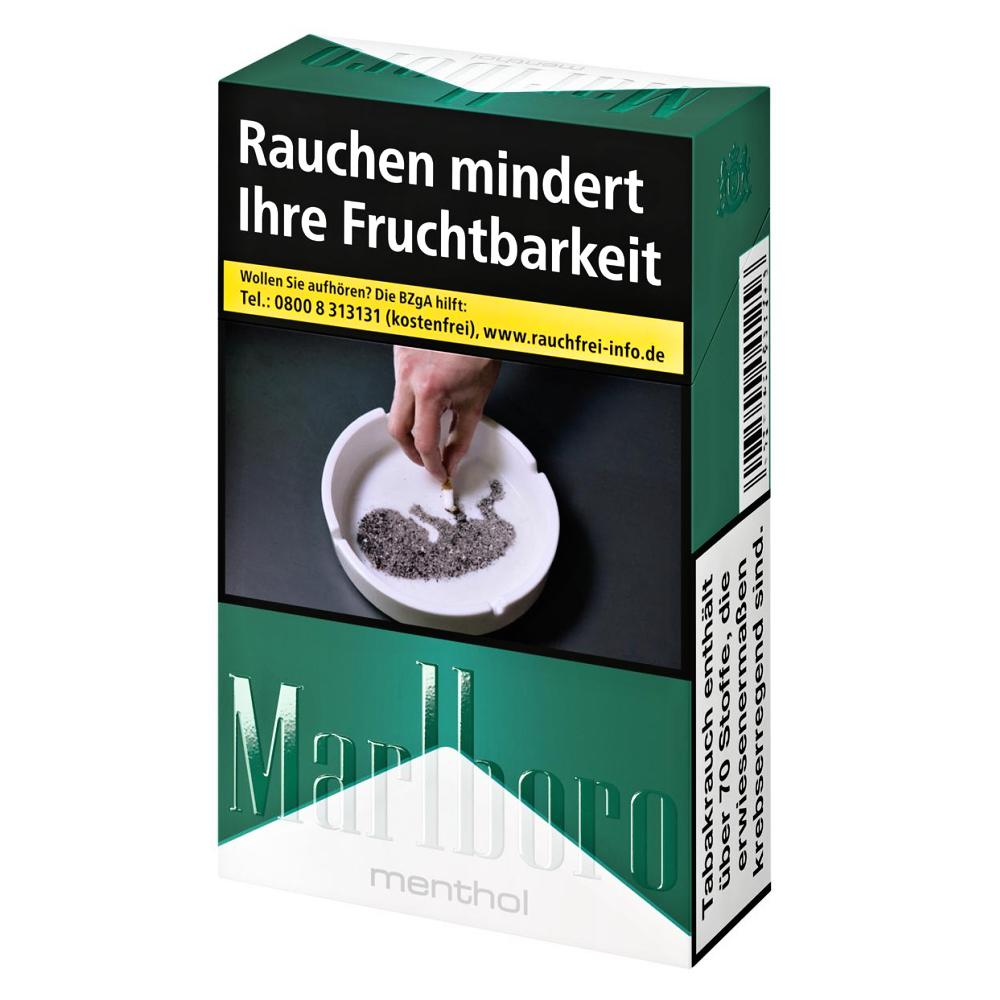marlboro_mentol: (218, 129, 679, 887)
